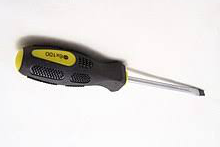Screwdriver: (13, 42, 208, 101)
